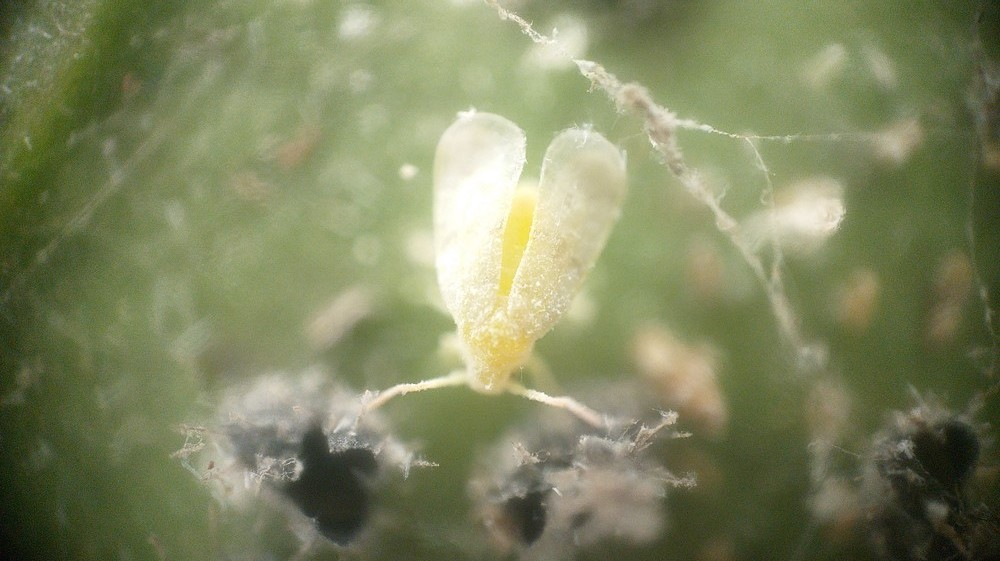Mosca Blanca: (356, 113, 644, 443)
